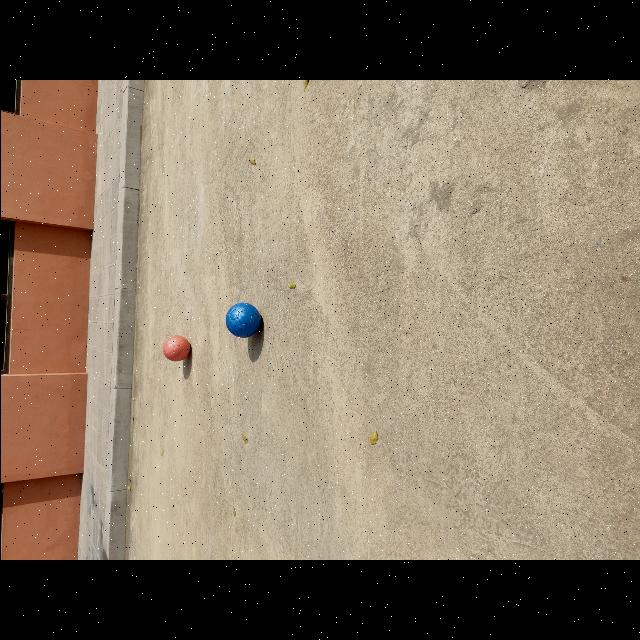B: (224, 303, 261, 338)
R: (162, 335, 189, 362)
